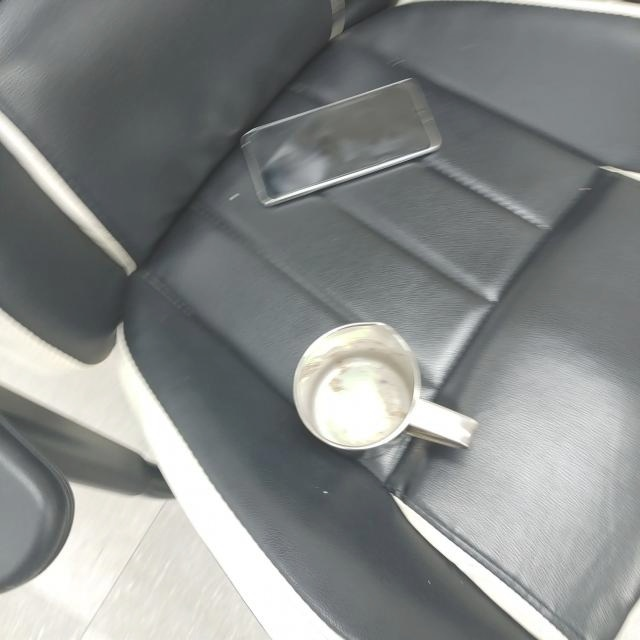cup: (292, 323, 479, 457)
phone: (240, 77, 441, 210)
